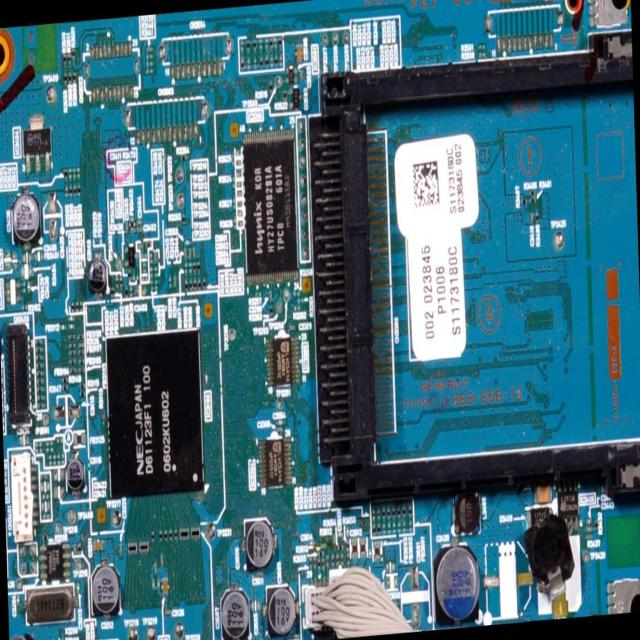Capacitor: (10, 194, 42, 248), (91, 563, 122, 617), (66, 454, 86, 495), (89, 260, 108, 298), (349, 537, 369, 559), (250, 597, 263, 615), (162, 574, 170, 598), (296, 42, 304, 64), (54, 469, 66, 483), (54, 486, 66, 499), (93, 540, 104, 553), (118, 540, 124, 562), (134, 286, 146, 296), (23, 251, 31, 263), (267, 289, 273, 305), (152, 560, 158, 576), (298, 67, 304, 82), (288, 322, 297, 332), (41, 482, 50, 492), (4, 256, 12, 267), (42, 502, 50, 513), (159, 552, 164, 568), (274, 418, 285, 424), (76, 582, 81, 595), (137, 242, 144, 251), (275, 425, 284, 432), (138, 218, 142, 233), (124, 222, 129, 234), (192, 248, 197, 260), (14, 256, 18, 270), (154, 252, 158, 266), (308, 539, 315, 545), (184, 249, 188, 259), (74, 545, 77, 556), (28, 281, 30, 295)
Connector: (8, 321, 34, 429), (10, 449, 36, 542)
IC: (105, 330, 212, 501), (243, 124, 302, 282), (255, 433, 294, 494), (267, 332, 299, 387), (40, 542, 72, 582), (40, 542, 71, 582), (22, 125, 54, 158), (556, 487, 582, 520), (7, 279, 20, 306), (288, 64, 298, 84)
Resistor Network: (173, 524, 179, 543), (336, 542, 346, 552), (268, 80, 274, 96), (157, 526, 163, 542), (141, 258, 147, 273), (296, 297, 302, 312), (377, 506, 382, 524), (150, 530, 156, 544), (257, 38, 263, 52), (144, 62, 156, 69), (185, 238, 193, 248), (42, 513, 52, 521), (282, 88, 288, 101), (268, 305, 274, 318), (156, 578, 161, 593), (479, 52, 488, 60), (141, 274, 149, 283), (61, 385, 70, 393), (325, 555, 331, 567), (145, 68, 157, 74), (478, 42, 486, 51), (69, 185, 74, 199), (124, 284, 129, 298), (402, 518, 407, 532), (372, 506, 376, 523), (264, 38, 268, 55), (202, 279, 208, 290), (127, 269, 132, 282), (22, 282, 27, 295), (397, 520, 402, 533), (50, 440, 54, 456), (42, 494, 50, 502), (146, 47, 154, 55), (164, 526, 168, 542), (179, 156, 189, 162), (77, 168, 81, 183), (182, 214, 187, 226), (184, 261, 188, 276), (58, 452, 62, 467), (382, 521, 386, 536), (408, 520, 413, 532), (336, 552, 340, 567), (68, 168, 72, 182), (64, 184, 68, 198), (78, 184, 82, 198), (236, 201, 244, 208), (197, 260, 201, 274), (194, 278, 198, 292), (62, 377, 69, 385), (45, 442, 49, 456), (388, 520, 392, 534), (274, 36, 278, 50), (151, 580, 155, 594), (247, 56, 251, 70), (279, 54, 283, 68), (52, 456, 57, 467), (193, 262, 197, 275), (189, 279, 193, 292), (111, 286, 115, 299), (35, 442, 39, 455), (72, 46, 76, 59), (345, 525, 349, 538), (237, 220, 244, 227), (293, 289, 300, 296), (74, 186, 78, 198), (236, 181, 242, 189), (188, 248, 192, 260), (150, 252, 154, 264), (155, 281, 159, 293), (198, 278, 202, 290), (130, 286, 134, 298), (22, 304, 28, 312), (61, 452, 65, 464), (62, 53, 66, 65), (68, 54, 72, 66), (338, 531, 344, 539), (341, 554, 345, 566), (314, 558, 318, 570), (146, 55, 154, 61), (72, 72, 76, 84), (68, 74, 72, 86), (253, 59, 257, 71), (73, 168, 76, 183), (393, 520, 396, 535), (64, 170, 68, 181), (150, 268, 154, 279), (154, 268, 158, 279), (150, 281, 154, 292), (48, 457, 52, 468), (78, 544, 82, 555), (236, 160, 242, 167), (146, 243, 152, 250), (332, 553, 335, 567), (270, 54, 273, 68), (64, 73, 67, 87), (39, 442, 43, 452), (309, 559, 313, 569), (322, 559, 326, 569), (240, 39, 243, 52), (189, 263, 192, 275), (185, 280, 188, 292), (79, 383, 85, 389), (170, 526, 172, 544), (80, 394, 86, 399), (596, 520, 598, 534)
